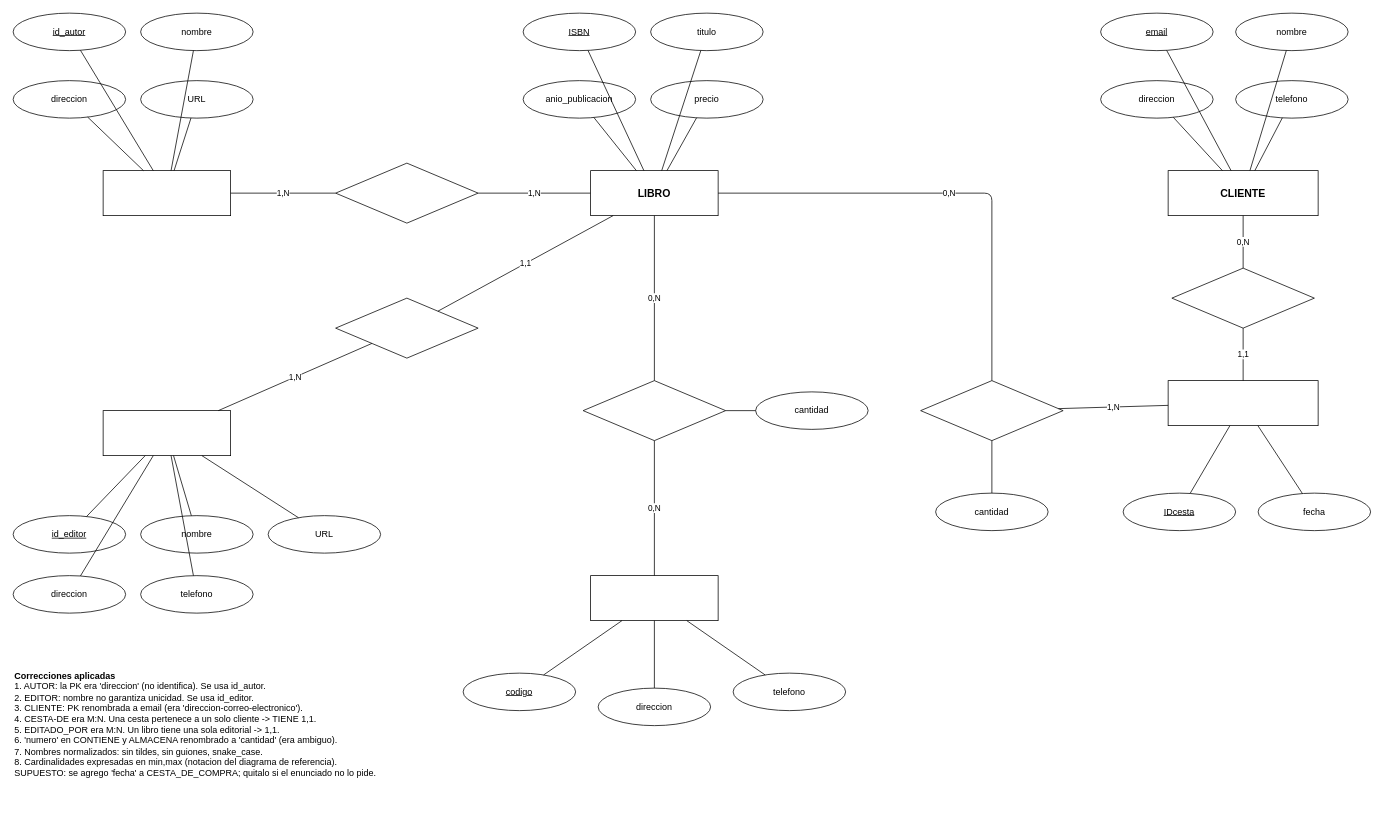
Some shapes in this 1384 by 829 pixel diagram are drawn without their labels. The centre of each missing label's shape, as x and y in pixels:
ALMACEN: pixel 654 598
ALMACENA: pixel 654 410
AUTOR: pixel 166 193
CESTA_DE_COMPRA: pixel 1242 403
CONTIENE: pixel 991 410
EDITADO_POR: pixel 406 327
EDITOR: pixel 166 433
ESCRITO_POR: pixel 406 192
TIENE: pixel 1242 297
